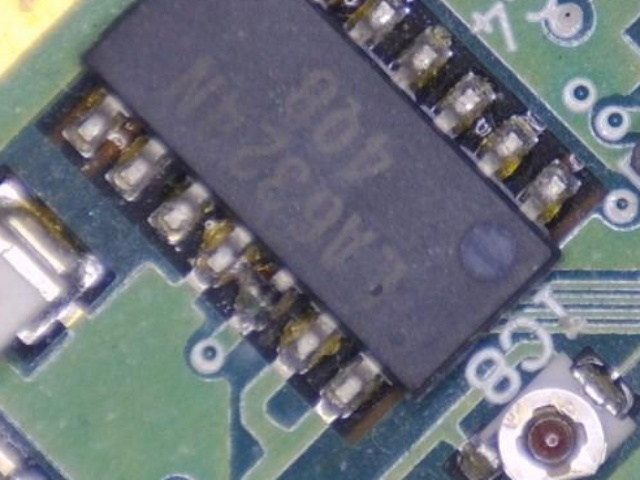pcb_defect: (192, 223, 297, 331)
